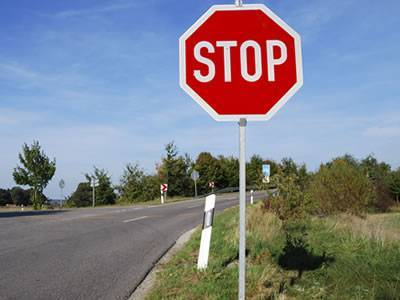stop: (188, 17, 292, 110)
